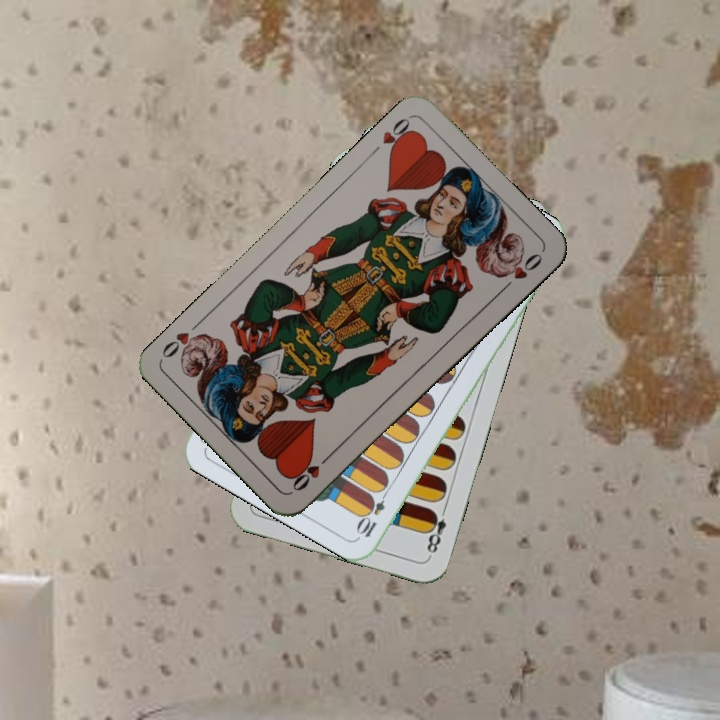E10: (354, 484, 392, 540)
E8: (422, 502, 450, 560)
HO: (288, 449, 335, 494), (378, 113, 418, 158)
